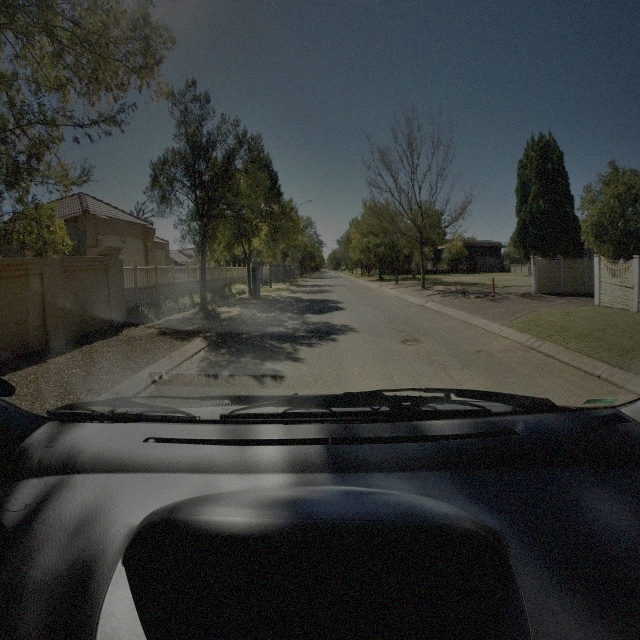pothole: (402, 338, 421, 348)
